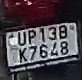1: (38, 28, 47, 43)
3: (48, 27, 57, 41)
4: (50, 42, 60, 57)
6: (40, 45, 49, 58)
7: (28, 45, 37, 61)
8: (59, 41, 71, 55)
B: (56, 25, 69, 40)
K: (17, 48, 28, 63)
P: (27, 29, 37, 45)
U: (16, 31, 27, 48)
